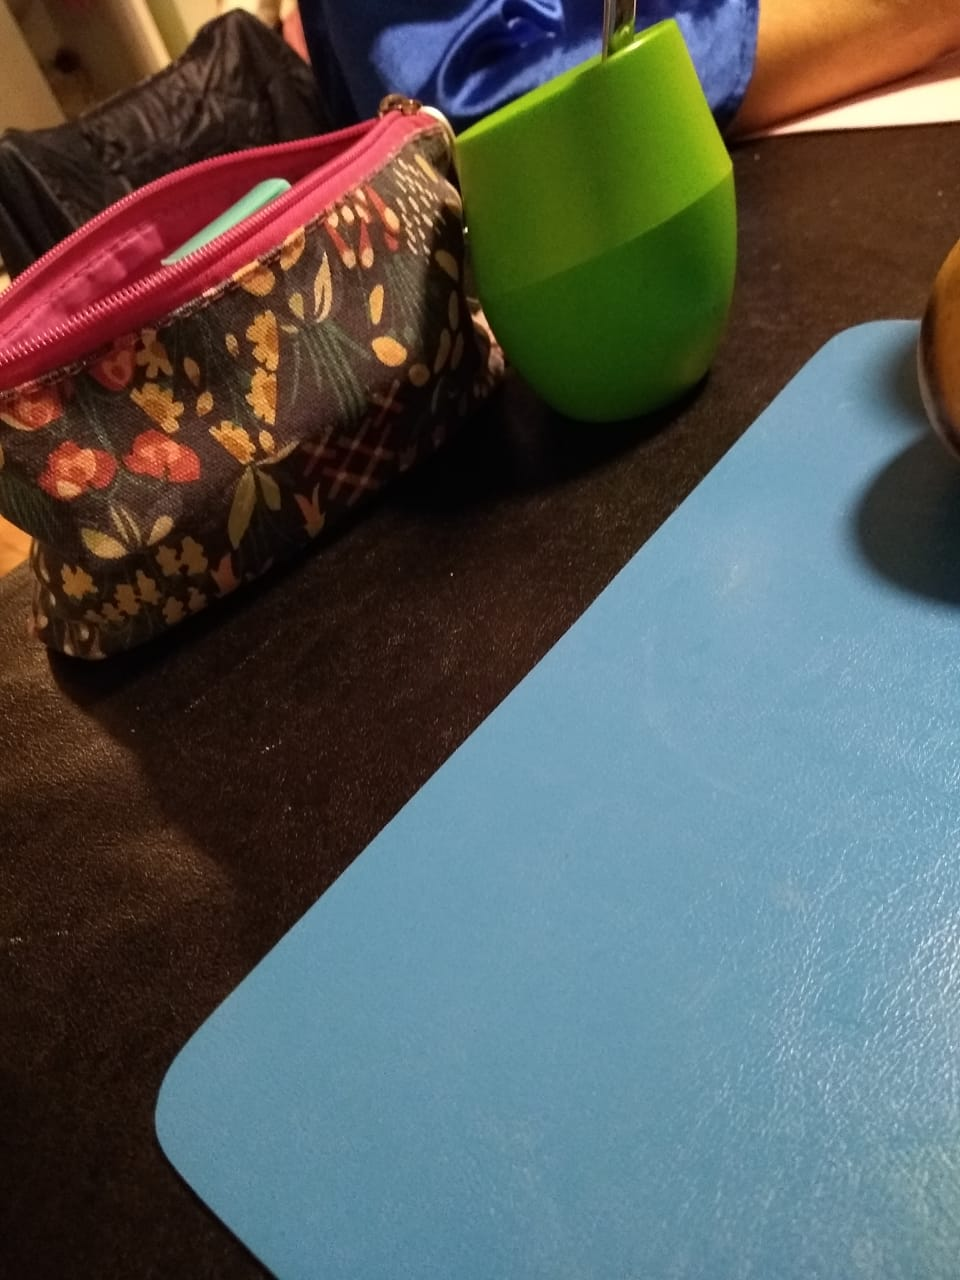mate: (450, 1, 743, 431)
plastico: (448, 1, 741, 431)
